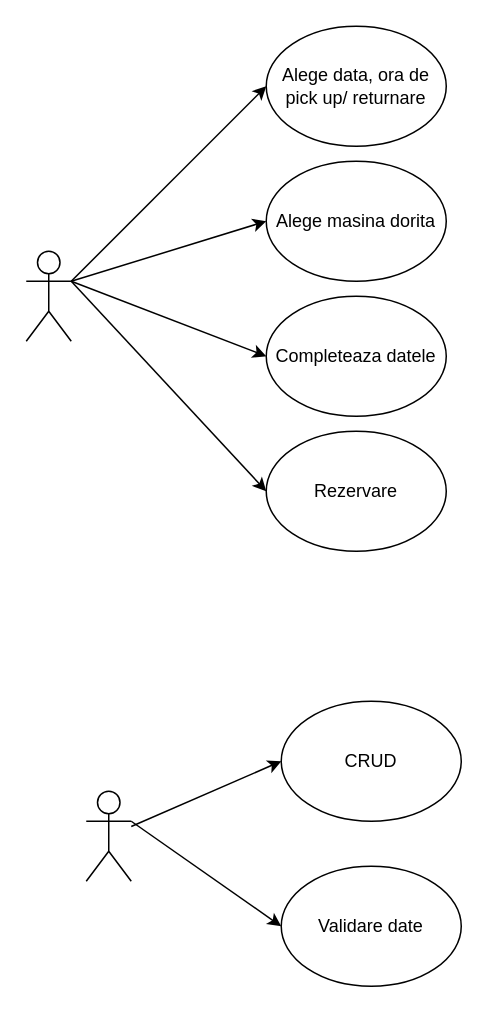
Image size: 488x1013. Some labels were removed from this diagram. The centre of each missing label's shape, as x and y in pixels:
Actor: the point at 108,835
User: the point at 48,295
